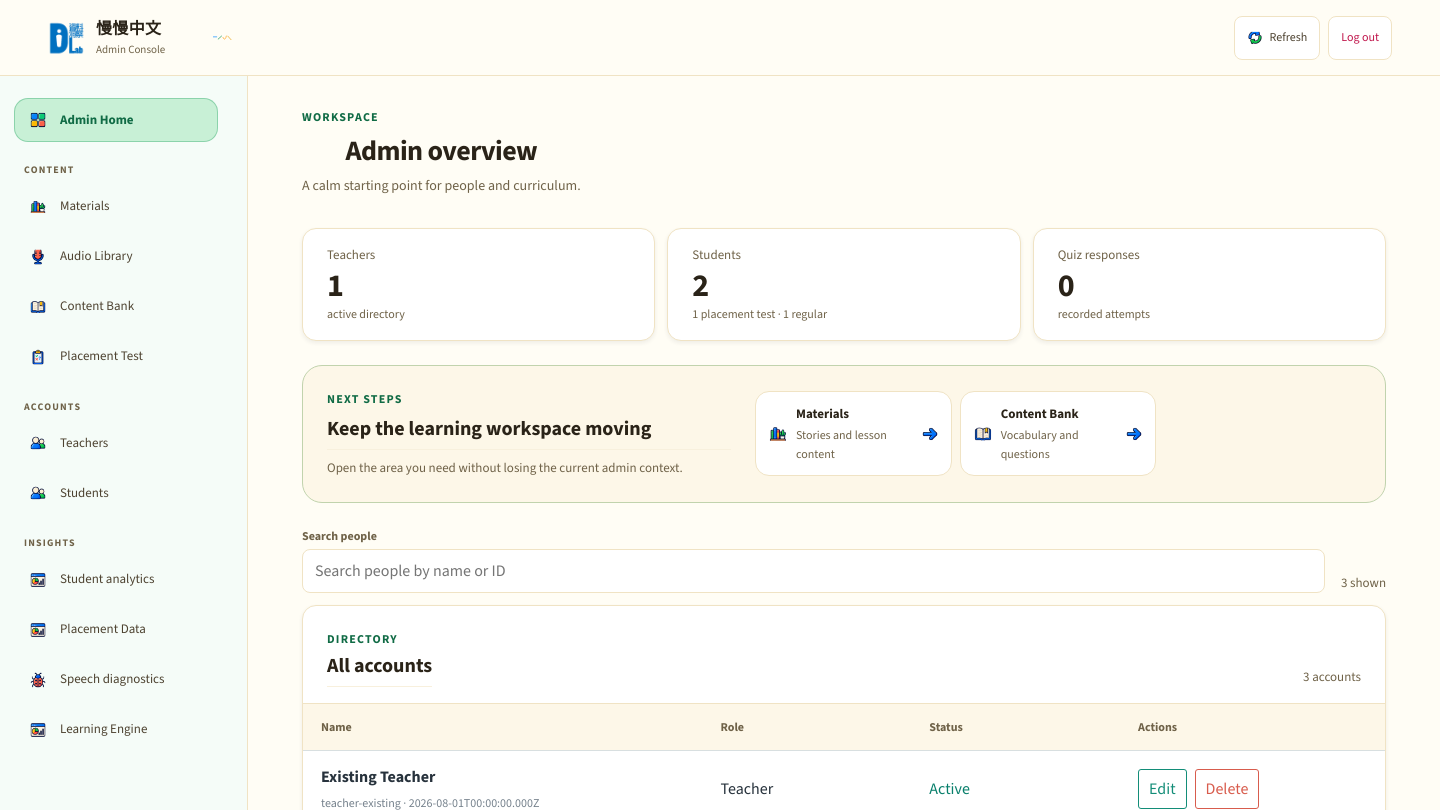
teacher and admin integration flows › shows imported placement accounts and lets admins find them by SIM id
The width and height of the screenshot is (1440, 810).
Click the button "Students" at (116, 493), box x1=14 y1=471 x2=218 y2=515
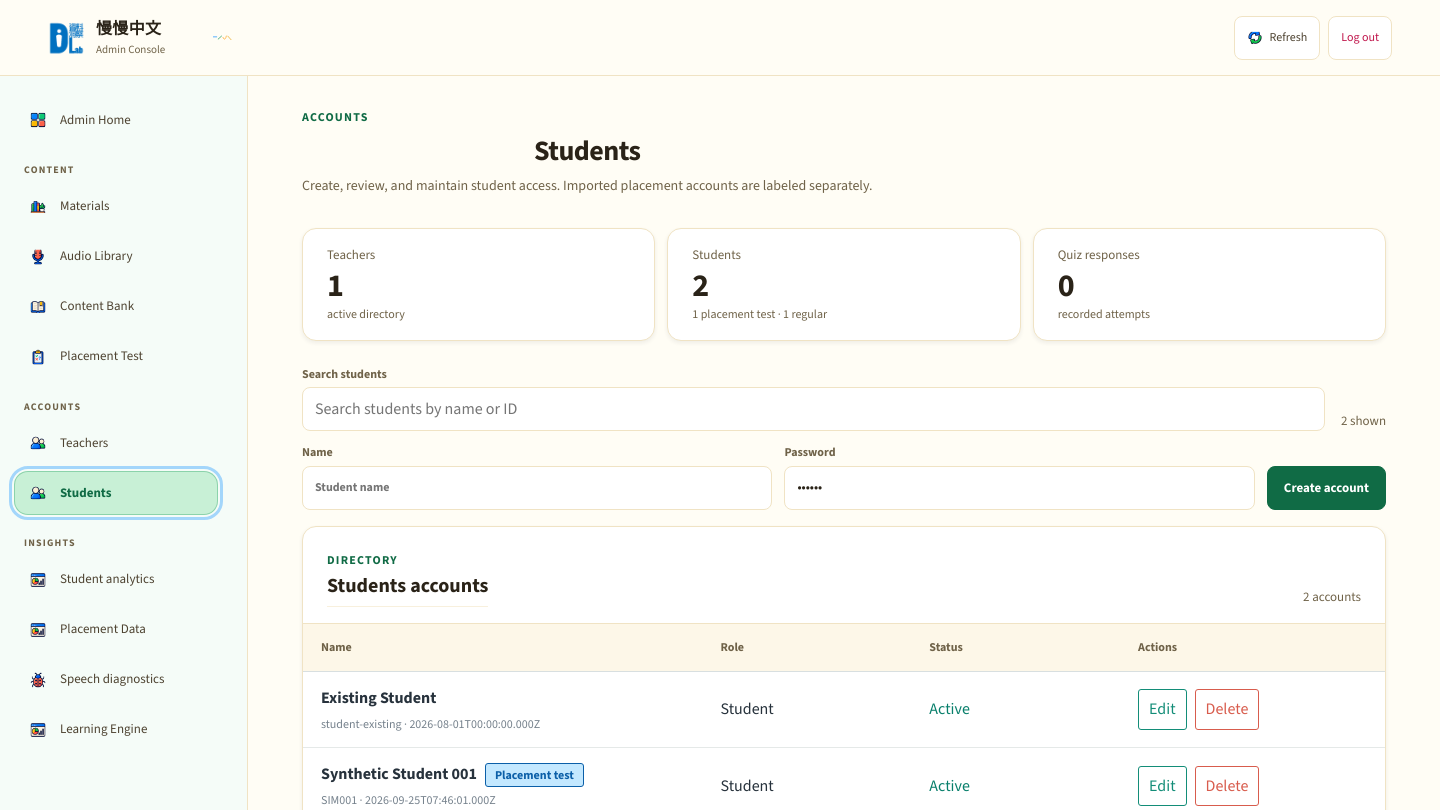
Expected: the text "Synthetic Student 001" is shown, x1=321 y1=762 x2=477 y2=787
Expected: the text "Placement test" is shown, x1=485 y1=763 x2=584 y2=787
Type "SIM001" into the field labelled "Search students" at (814, 409), box x1=302 y1=387 x2=1325 y2=431
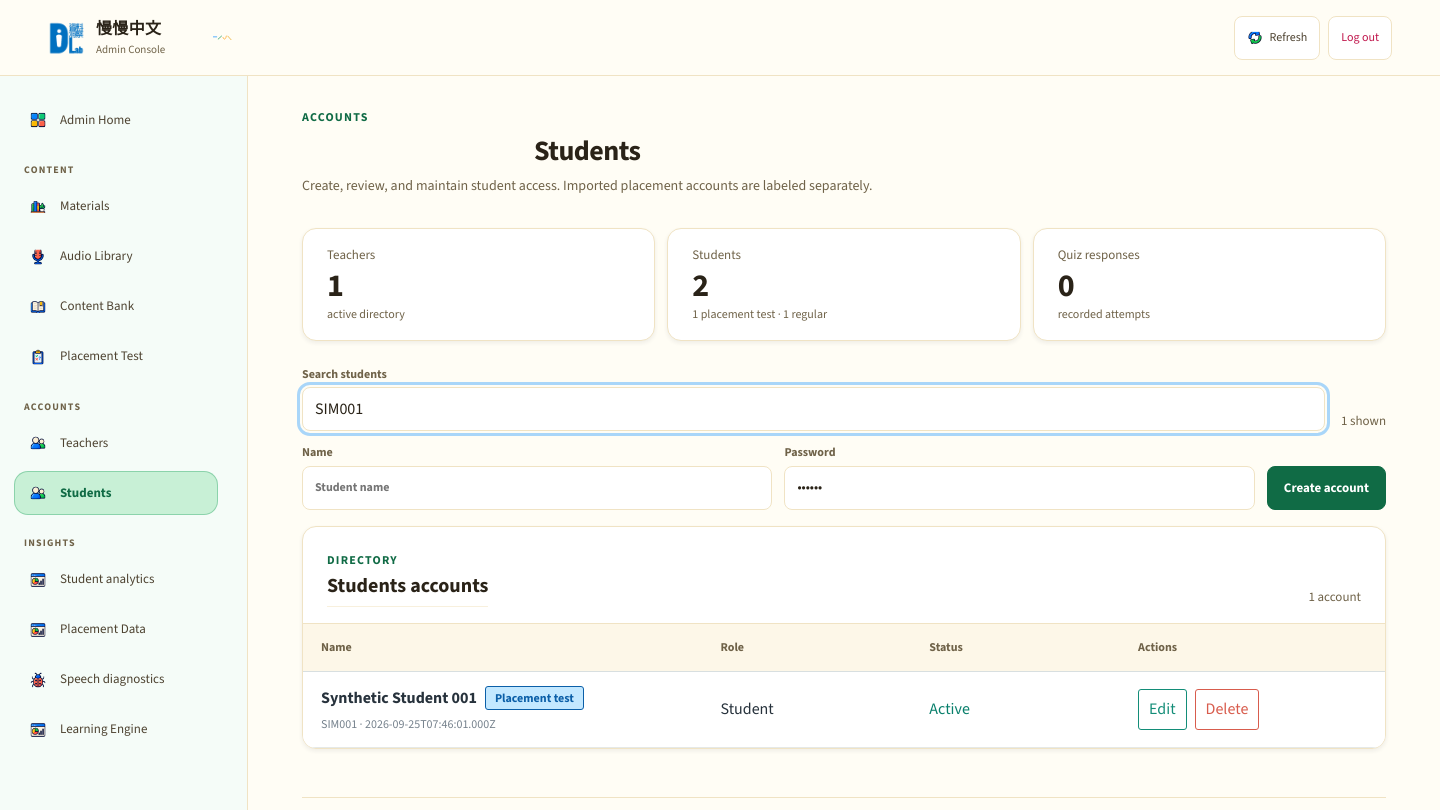
Expected: the text "Synthetic Student 001" is shown, x1=321 y1=686 x2=477 y2=711
Now the text "Existing Student" is gone
